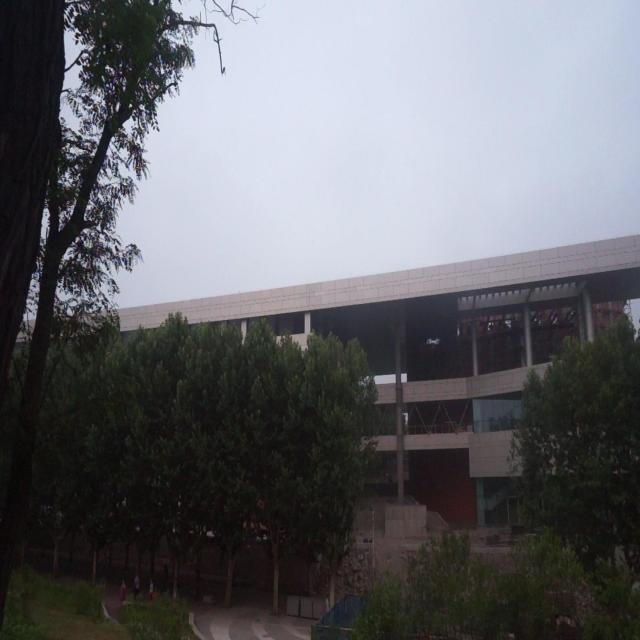UAV: (426, 337, 440, 347)
